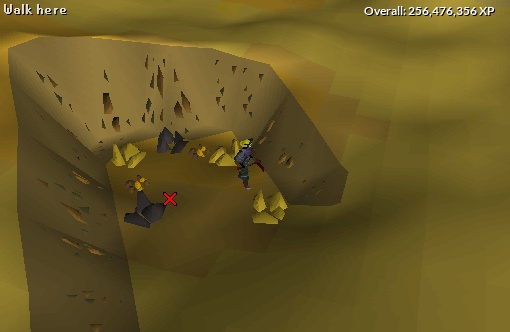depleted: (120, 189, 177, 239), (150, 124, 196, 157)
gold: (244, 184, 302, 234), (106, 135, 151, 173)
